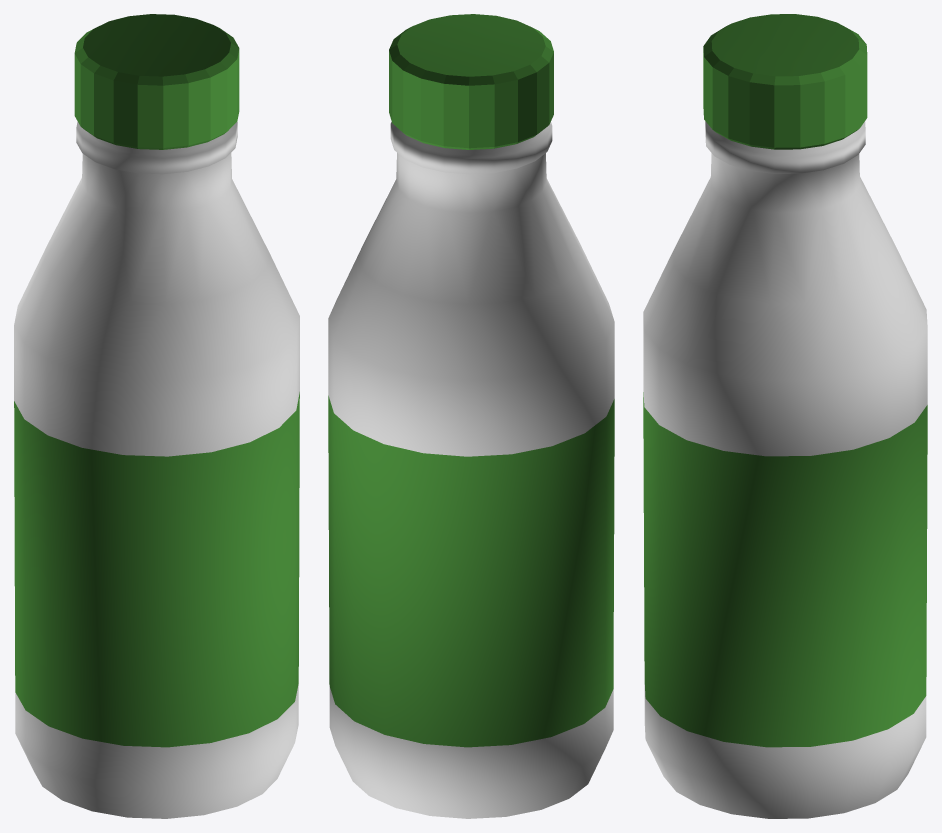
Rendered from Fresh Milk.fbx.
3 views of the same model, side by side, from view 1: azimuth 30°, elevation 25°; view 2: azimuth 150°, elevation 25°; view 3: azimuth 270°, elevation 25° (orthographic).
Visible parts, largest first — view 1: Node 0; view 2: Node 0; view 3: Node 0.
Part boxes in pixels (x1=…): Node 0: x1=14, y1=14, x2=299, y2=818; Node 0: x1=328, y1=14, x2=614, y2=818; Node 0: x1=643, y1=14, x2=927, y2=818.
Size of the model in its own units: 0.0741 by 0.2076 by 0.0741.
